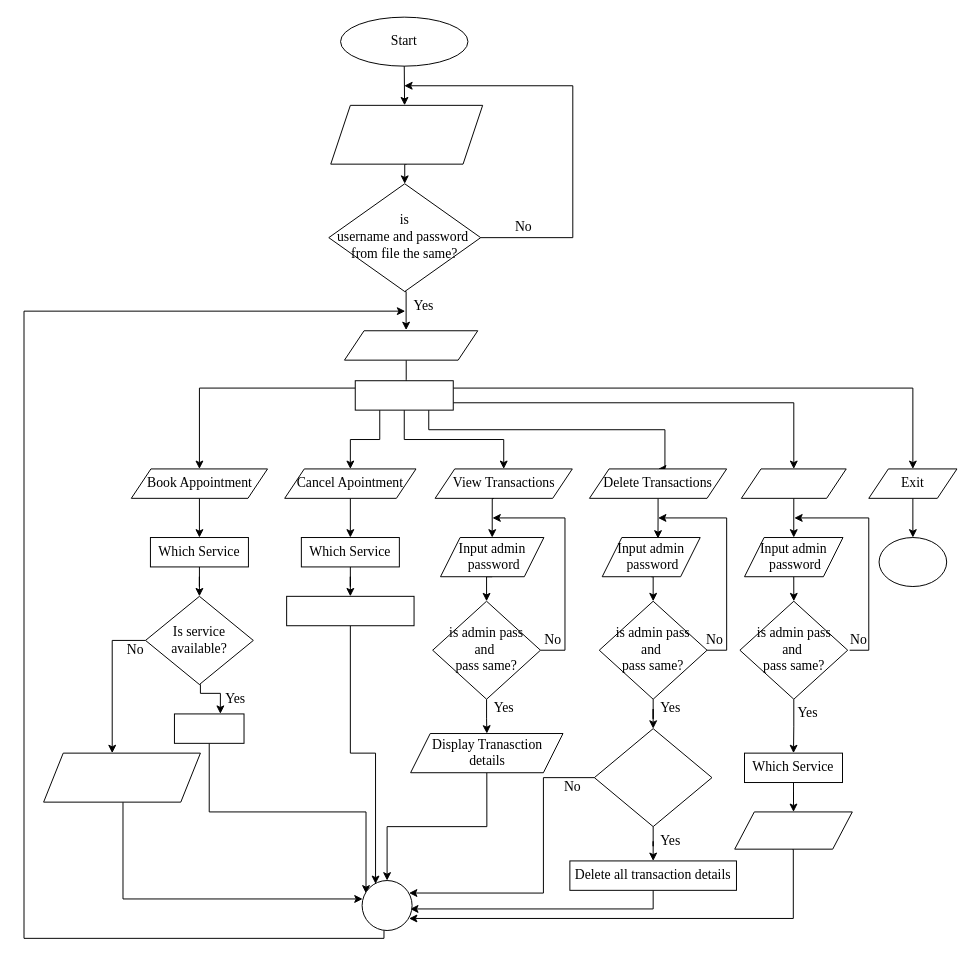
Image size: 974x963. Some labels were removed from this diagram. The centre of each missing label's shape, as x and y in pixels:
"Billing" belongs at (208,728).
"Cancel Appointment" belongs at (350,610).
"Choose Option" belongs at (403,395).
"confirmation on deletion?" belongs at (652,777).
"Display Dashboard" belongs at (410,345).
"Display No Available Services" belongs at (121,777).
"Edit Price" belongs at (793,483).
"END" belongs at (912,562).
"Enter New Price" belongs at (793,830).
"Input valid username and password" belongs at (406,134).
